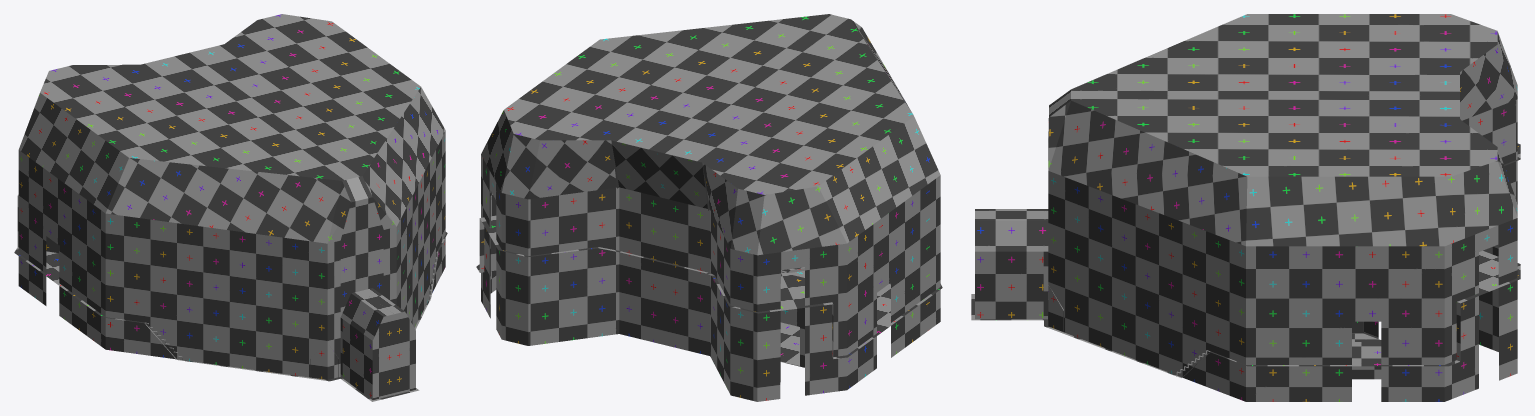
File: lobby.glb
The picture shows the model from 3 angles, left to right: view 1: azimuth 30°, elevation 25°; view 2: azimuth 150°, elevation 25°; view 3: azimuth 270°, elevation 25°; orthographic projection. The views are drawn at different scales.
Parts seen in each view (by area): view 1: Paredes-Techo; view 2: Paredes-Techo; view 3: Paredes-Techo.
Part boxes in pixels (<box>): Paredes-Techo: <box>14,14,447,401</box>; Paredes-Techo: <box>476,14,942,401</box>; Paredes-Techo: <box>971,14,1520,401</box>.
Size of the model in its own units: 19.73 by 10.39 by 23.79.
1 material, 1 textured.
